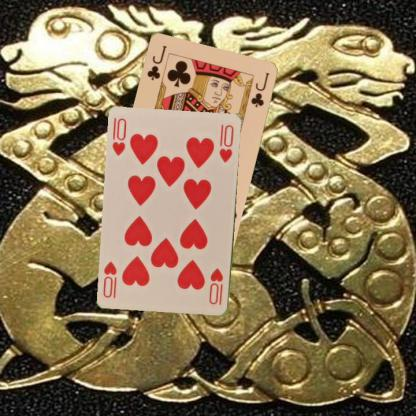10h: (207, 266, 225, 307), (110, 116, 127, 157)
Jc: (144, 42, 167, 82)
